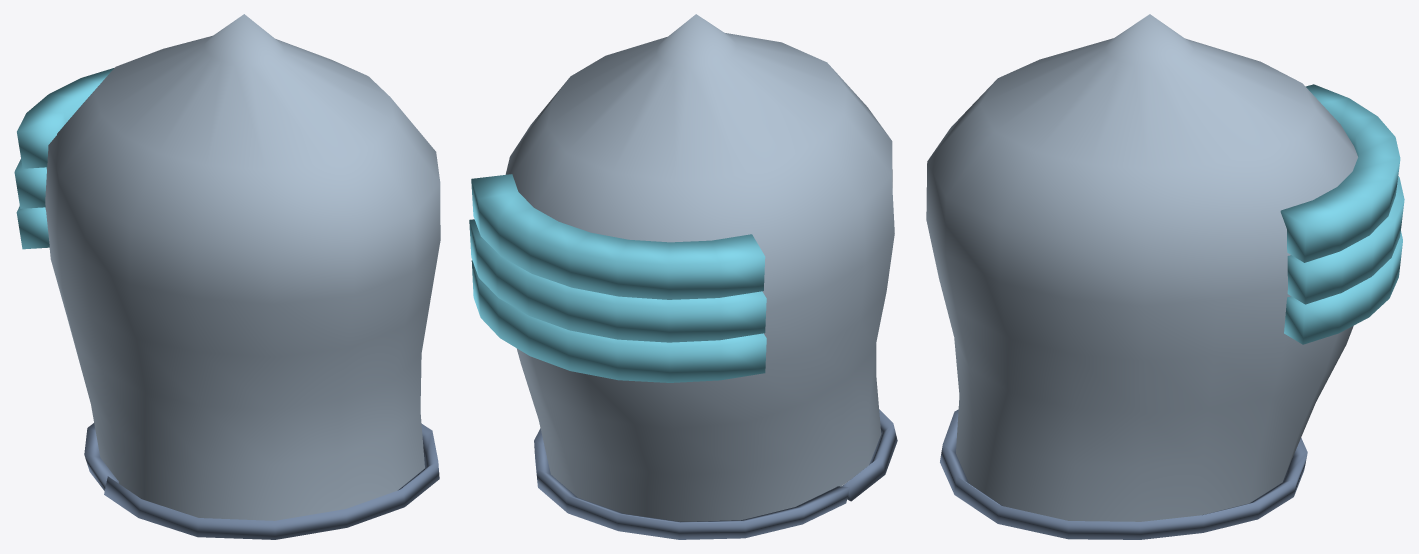
The model's file is titanium_helmet.glb.
The picture shows the model from 3 angles, left to right: view 1: azimuth 30°, elevation 25°; view 2: azimuth 150°, elevation 25°; view 3: azimuth 270°, elevation 25°; orthographic projection. The views are drawn at different scales.
Visible parts, largest first — view 1: titanium_helmet_head; view 2: titanium_helmet_head; view 3: titanium_helmet_head.
Boxes of the visible parts, x1,y1,x2,y2 form: titanium_helmet_head: [14, 14, 440, 539]; titanium_helmet_head: [469, 14, 897, 539]; titanium_helmet_head: [926, 14, 1404, 539].
Size of the model in its own units: 0.2644 by 0.3451 by 0.3277.
